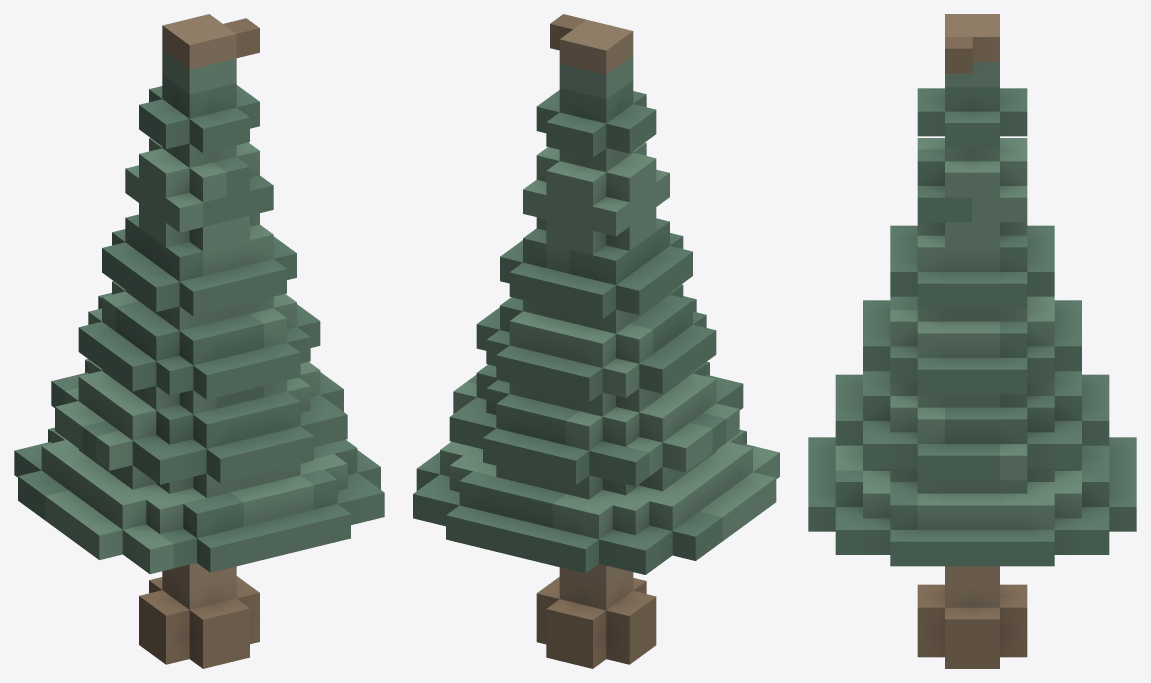
File: grand_pin_0.glb
The picture shows the model from 3 angles, left to right: view 1: azimuth 30°, elevation 25°; view 2: azimuth 150°, elevation 25°; view 3: azimuth 270°, elevation 25°; orthographic projection.
Visible parts, largest first — view 1: geometry_0; view 2: geometry_0; view 3: geometry_0.
Part boxes in pixels (left/top/right/bottom): geometry_0: left=14, top=14, right=384, bottom=668; geometry_0: left=413, top=14, right=779, bottom=668; geometry_0: left=808, top=14, right=1136, bottom=668.
Bounding box in the file's own units: 3 × 6.25 × 3.
